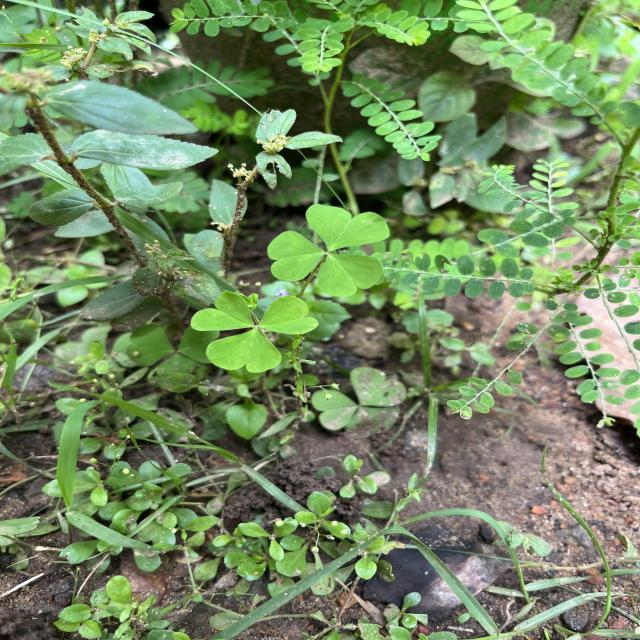Oxalis corniculata: (265, 202, 392, 298), (189, 289, 321, 374)
